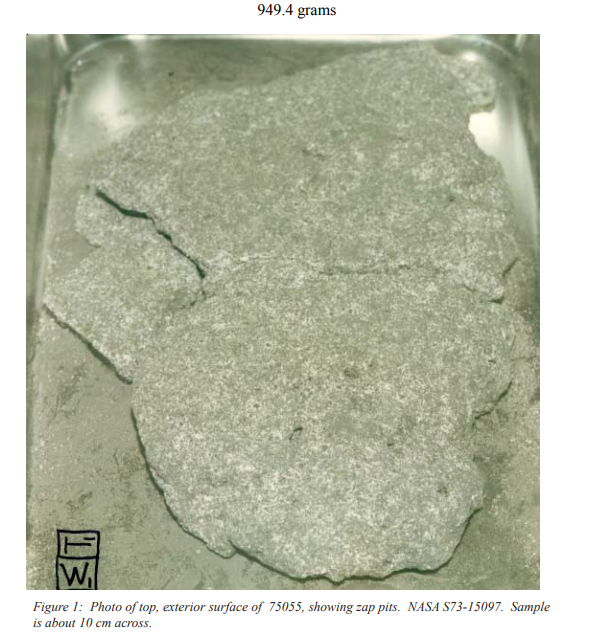Basalt: (91, 87, 504, 585)
